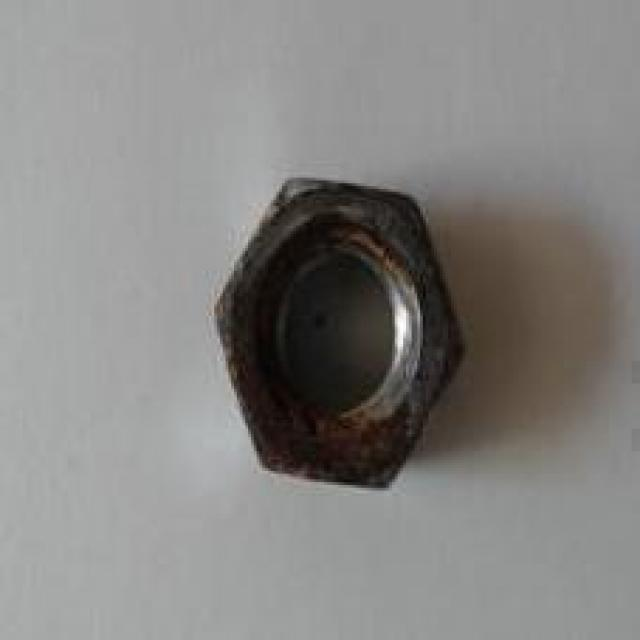ecrouNOK: (211, 170, 468, 495)
